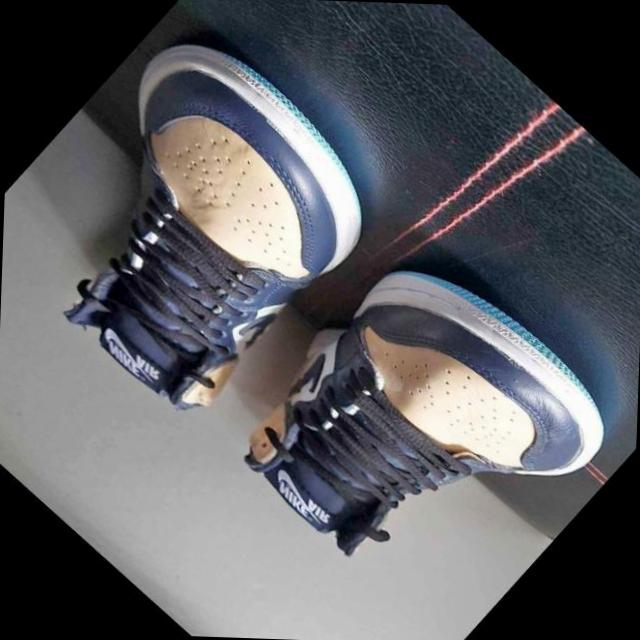nike_fake_jordan: (209, 215, 635, 640), (0, 4, 412, 443)
